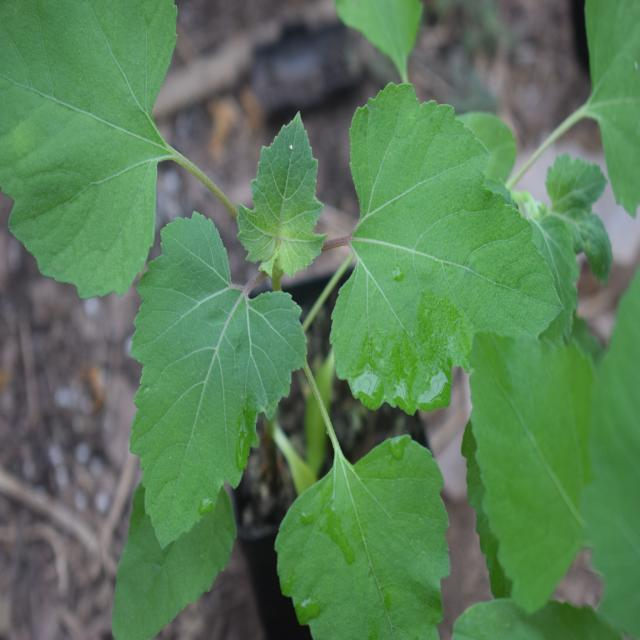cocklebur: (11, 0, 534, 588)
